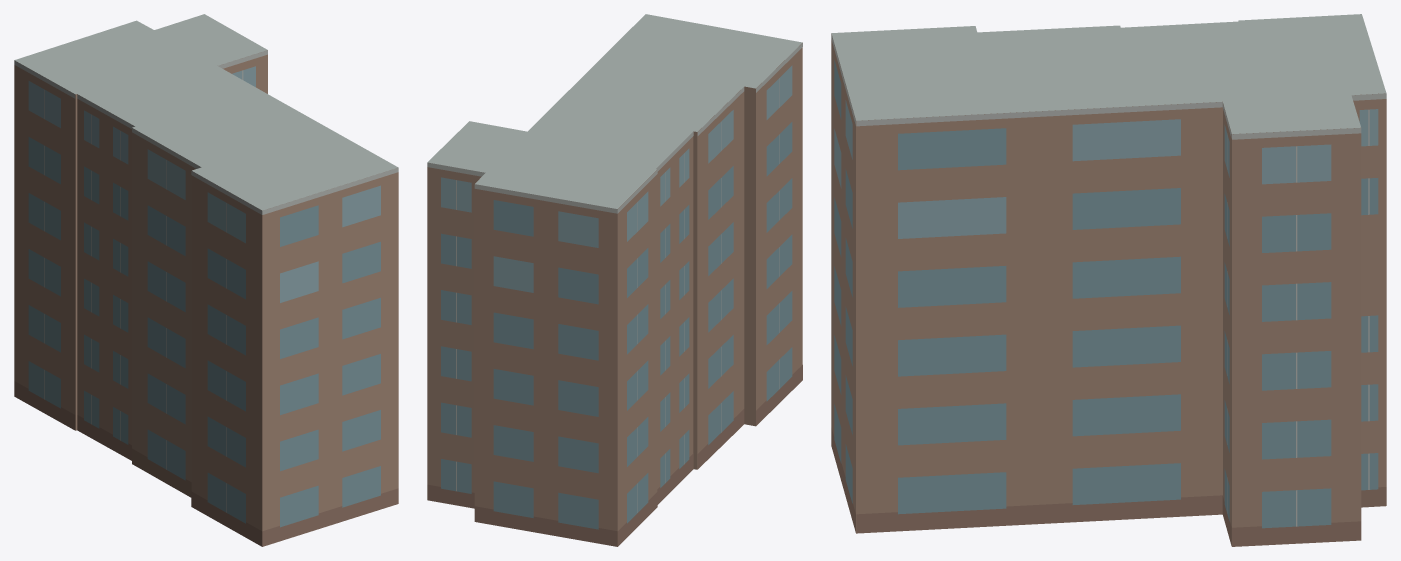
The model's file is survey-upis-32816915.glb.
3 views of the same model, side by side, from view 1: azimuth 30°, elevation 25°; view 2: azimuth 150°, elevation 25°; view 3: azimuth 270°, elevation 25° (orthographic). The views are drawn at different scales.
Visible parts, largest first — view 1: survey-upis-32816915.tmp; view 2: survey-upis-32816915.tmp; view 3: survey-upis-32816915.tmp.
Part boxes in pixels (box(x1,y1,x2,y2)): survey-upis-32816915.tmp: box(14, 14, 398, 546); survey-upis-32816915.tmp: box(427, 14, 802, 546); survey-upis-32816915.tmp: box(831, 14, 1386, 546).
Size of the model in its own units: 11.22 by 17.95 by 21.89.
